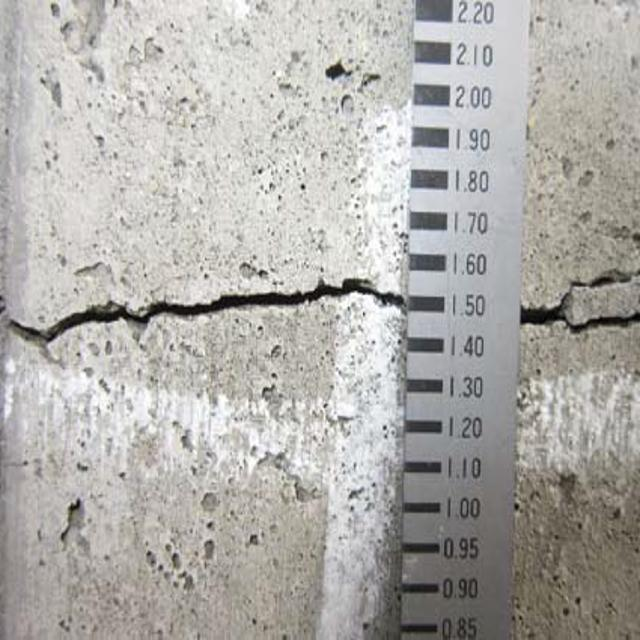crack: (7, 281, 407, 350), (523, 263, 640, 343)
